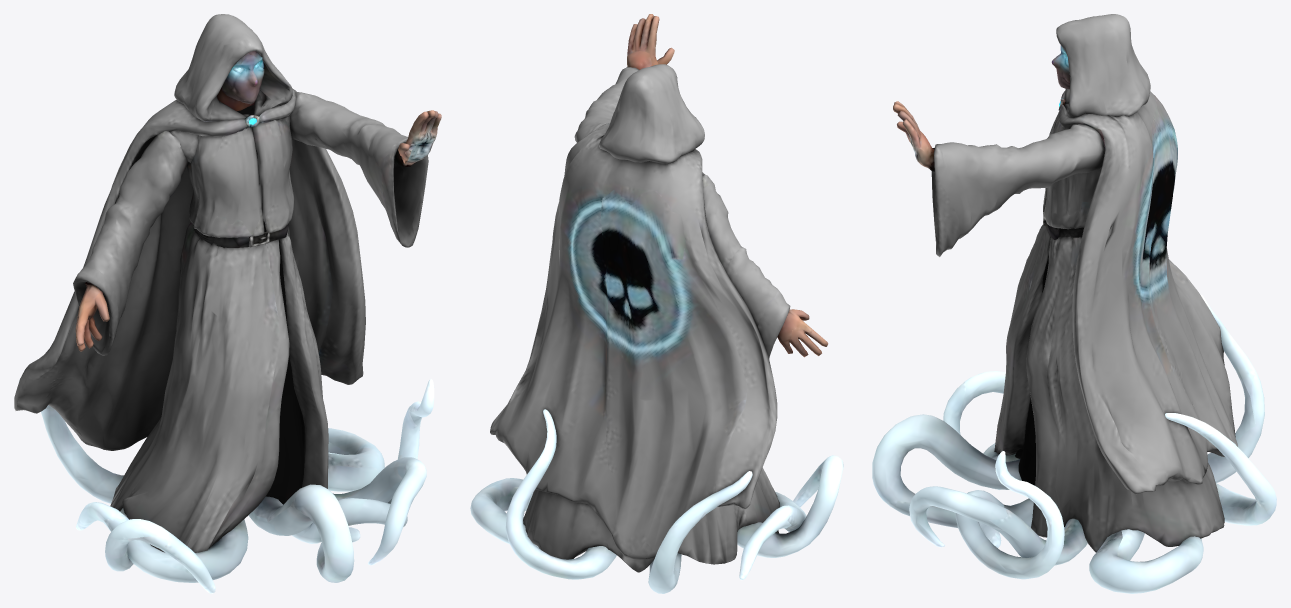
File: MZ4250 - Priest of Osybus.glb
The picture shows the model from 3 angles, left to right: view 1: azimuth 30°, elevation 25°; view 2: azimuth 150°, elevation 25°; view 3: azimuth 270°, elevation 25°; orthographic projection. The views are drawn at different scales.
Parts seen in each view (by area): view 1: Body.002; view 2: Body.002; view 3: Body.002.
Part boxes in pixels (x1=…): Body.002: x1=14, y1=14, x2=441, y2=593; Body.002: x1=470, y1=14, x2=843, y2=593; Body.002: x1=872, y1=14, x2=1276, y2=593.
Size of the model in its own units: 63.17 by 89.82 by 65.36.
1 material, 1 textured.
